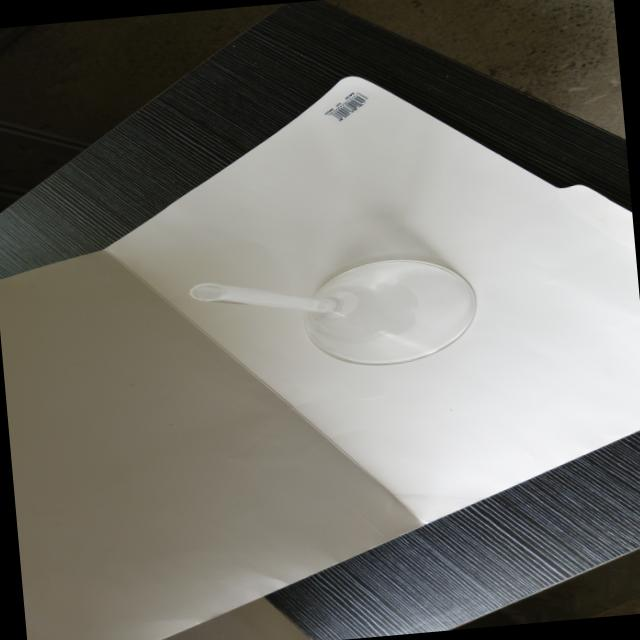funnel: (183, 220, 487, 388)
